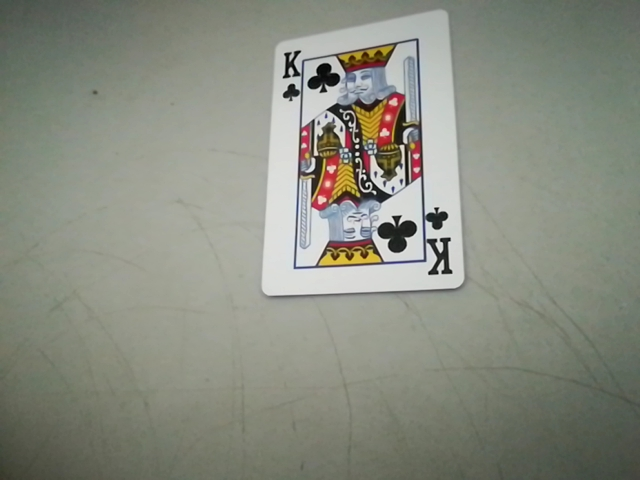mh k: (424, 199, 456, 278), (279, 35, 304, 106)
